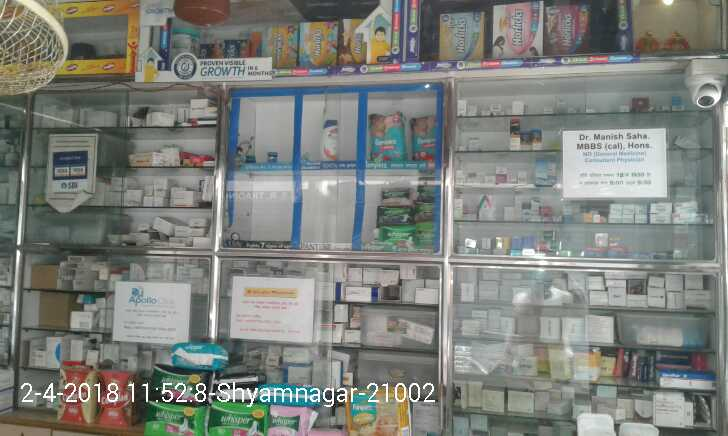vicks: (266, 152, 277, 159)
